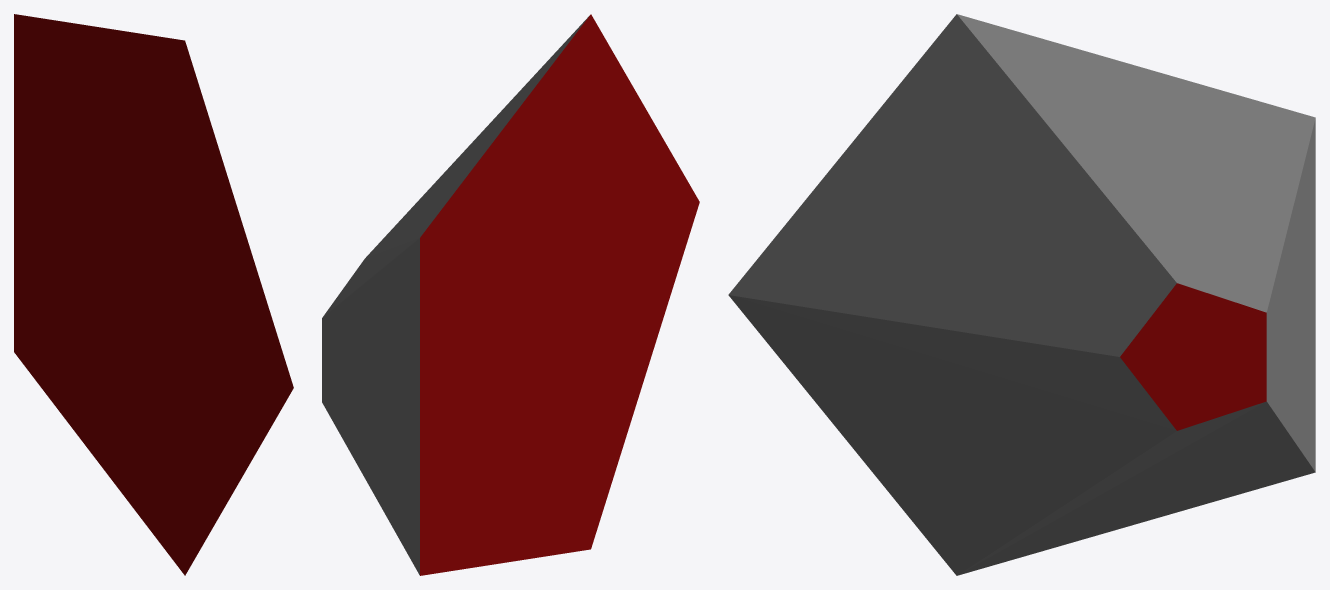
File: thargon.obj
3 views of the same model, side by side, from view 1: azimuth 30°, elevation 25°; view 2: azimuth 150°, elevation 25°; view 3: azimuth 270°, elevation 25° (orthographic). The views are drawn at different scales.
Parts seen in each view (by area): view 1: thargon; view 2: thargon; view 3: thargon.
Part boxes in pixels (bbox=[...]): thargon: bbox=[14, 14, 293, 575]; thargon: bbox=[322, 14, 699, 575]; thargon: bbox=[728, 14, 1315, 575].
Size of the model in its own units: 18 by 76 by 72.
